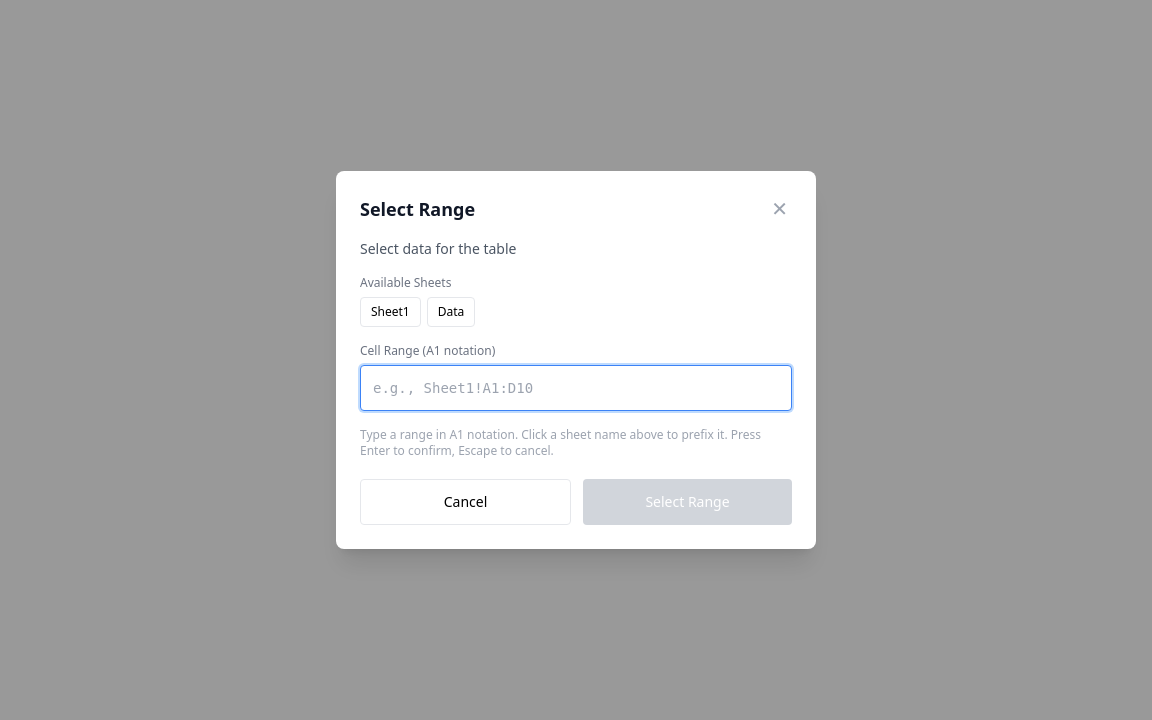
Scenario: SheetLinkRangePicker › inserts sheet name with ! when sheet button is clicked
The image size is (1152, 720).
Click the button "Sheet1" at (390, 312), box [360,297,421,327]
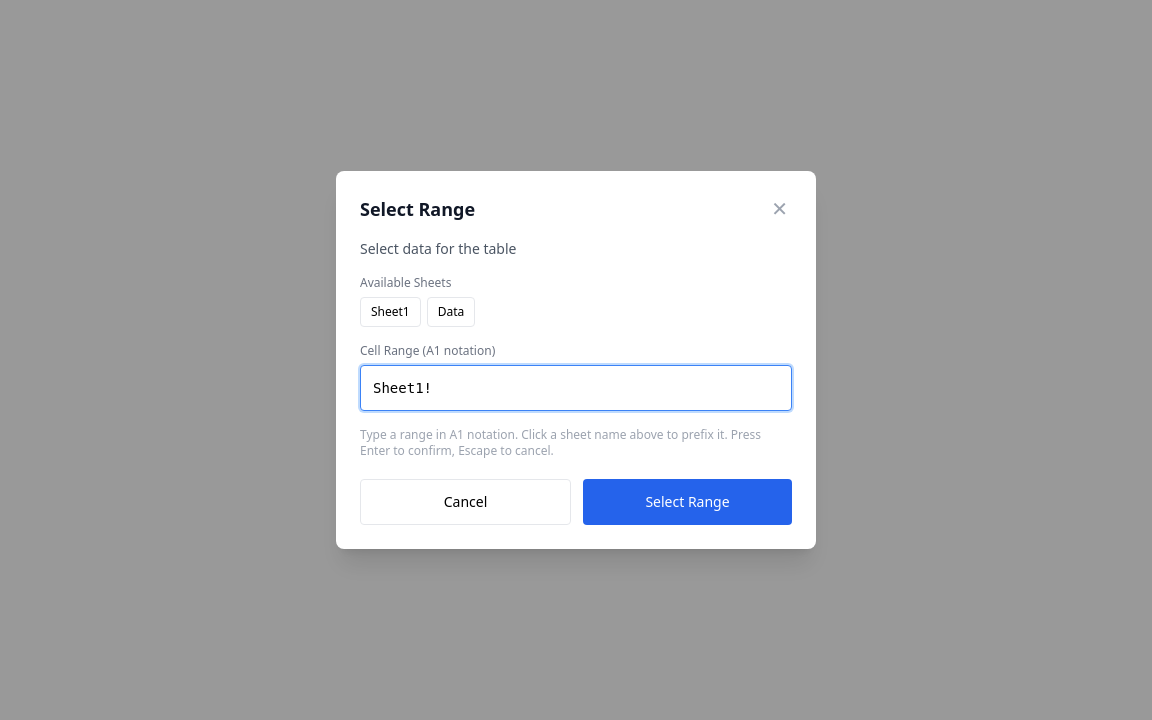
Result: the field with placeholder "e.g., Sheet1!A1:D10" holds "Sheet1!" at [360,365,792,411]
